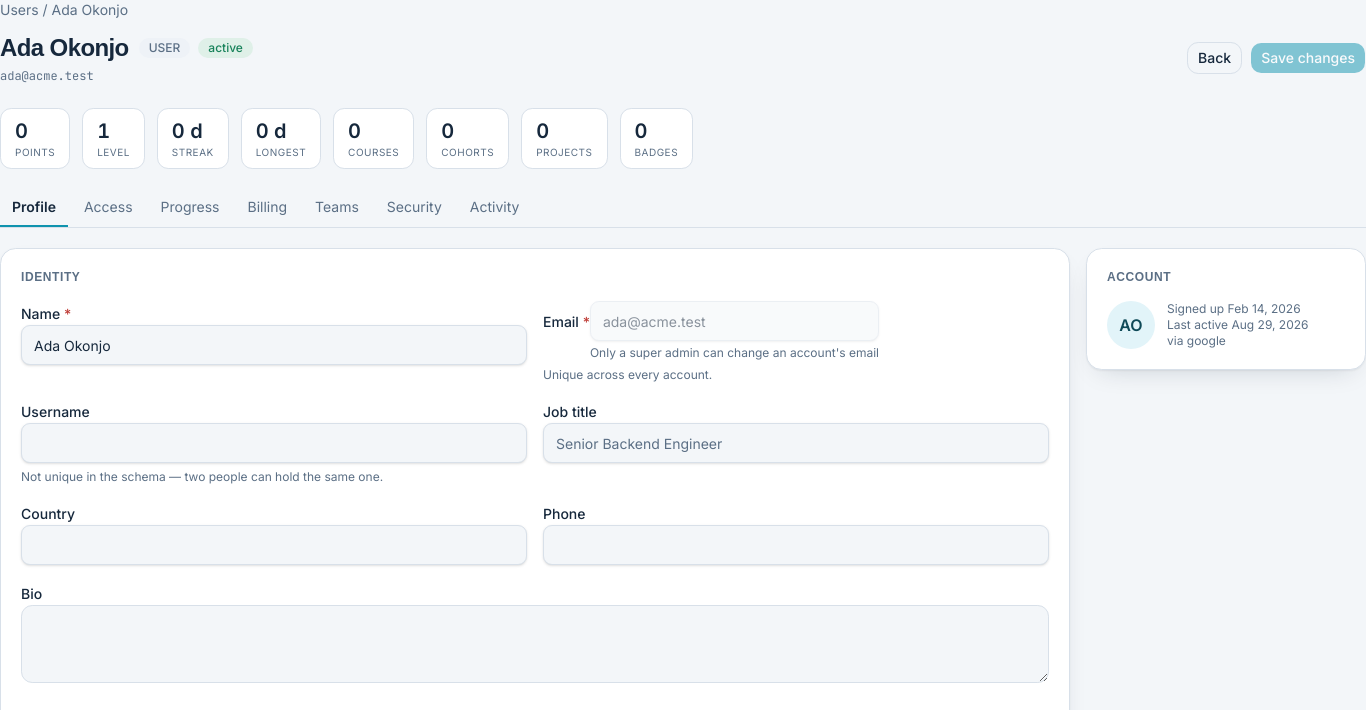
it: the billing panel › shows the plan and its status rather than "No subscription"
The width and height of the screenshot is (1366, 710).
What coordinates should you click on to do the following:
click the tab "Access"
I would click on:
 (108, 208)
Its box is 72,189 -> 144,227.
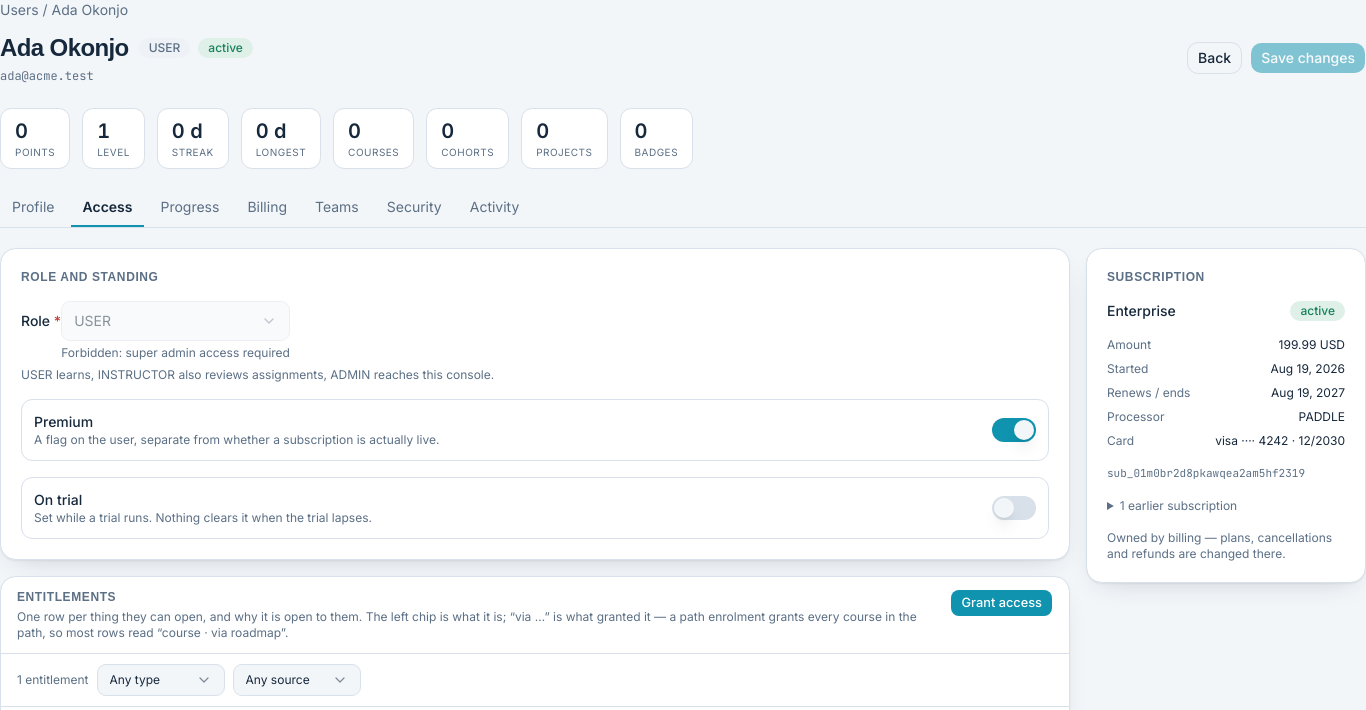
Expected: the text "Enterprise" is shown, 1107,301 -> 1176,321
